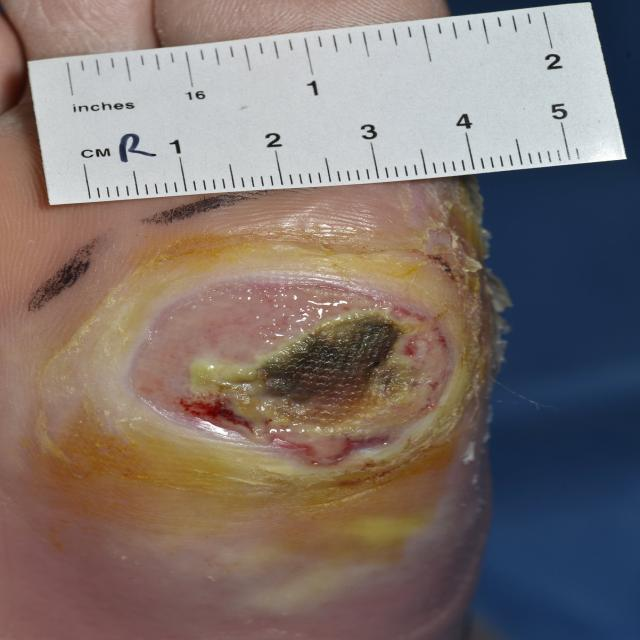wound: (129, 275, 460, 472)
